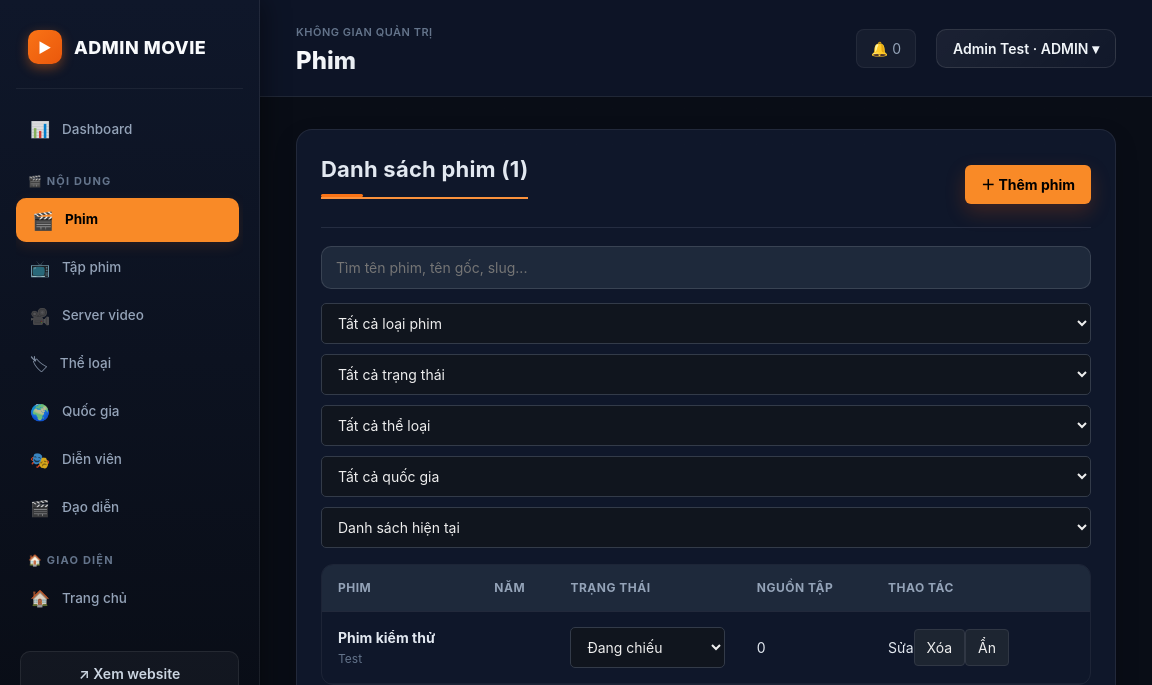
Scenario: Movies filter and navigate to a direct edit URL with episode controls
Expected: the heading "Danh sách phim (1)" is shown, x1=321 y1=154 x2=528 y2=199
Select "Phim lẻ" in the dropdown named "Loại phim" at (706, 324), box x1=321 y1=303 x2=1091 y2=344
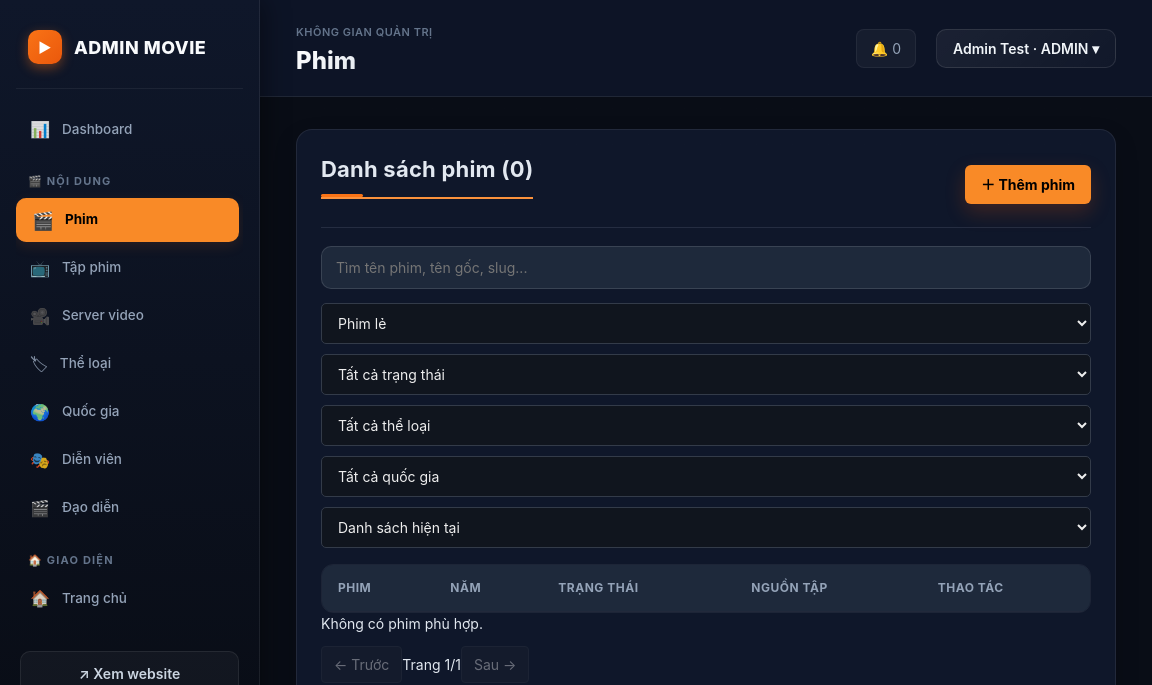
Expected: the text "Không có phim phù hợp." is shown, x1=321 y1=615 x2=483 y2=632
Select "Phim bộ" in the dropdown named "Loại phim" at (706, 324), box x1=321 y1=303 x2=1091 y2=344
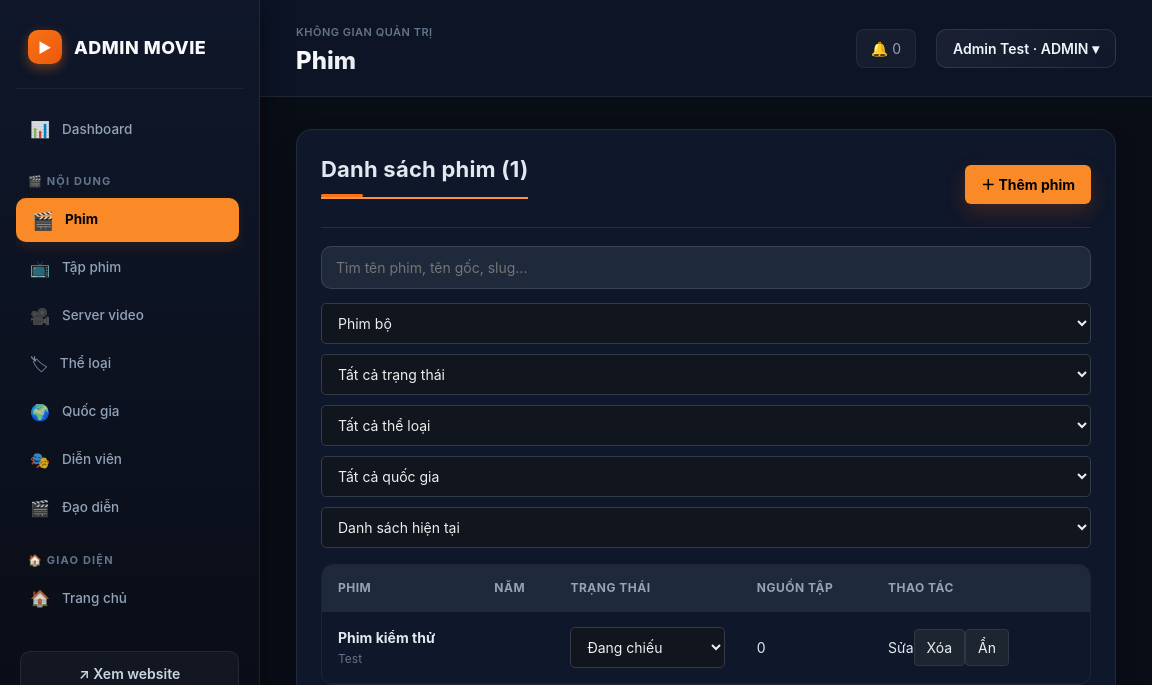
Click the link "Sửa" at (901, 648), box x1=888 y1=639 x2=914 y2=656
(page scrolled)
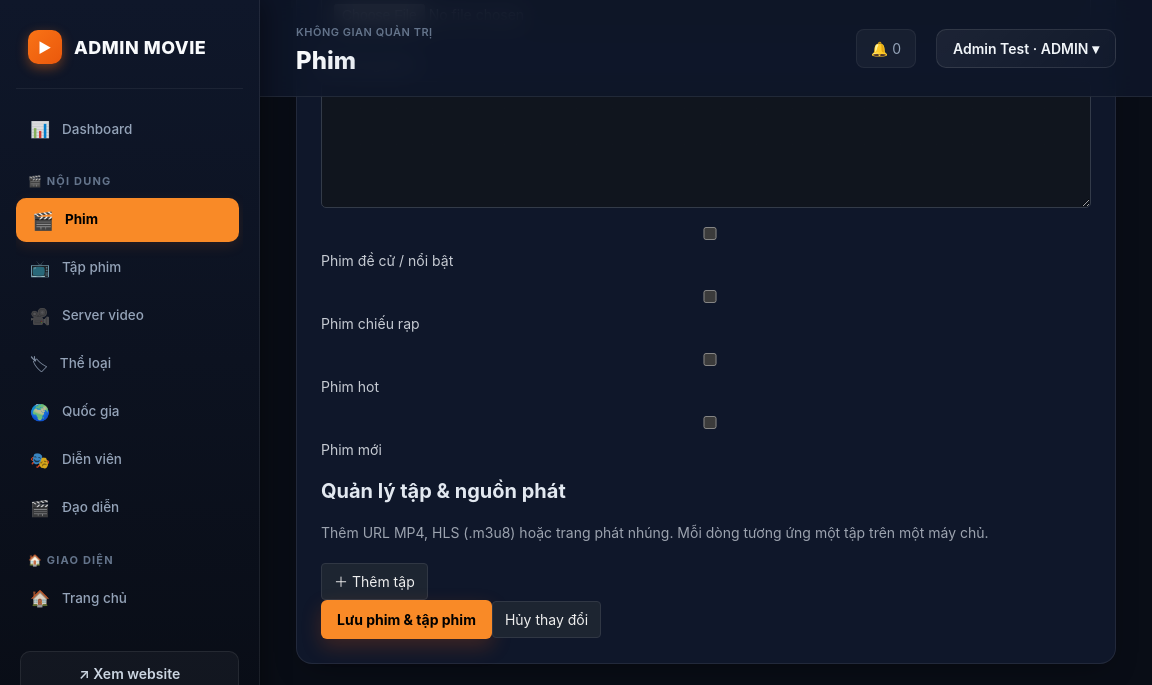
Click the button "＋ Thêm tập" at (374, 582), box x1=321 y1=563 x2=428 y2=600
(page scrolled)
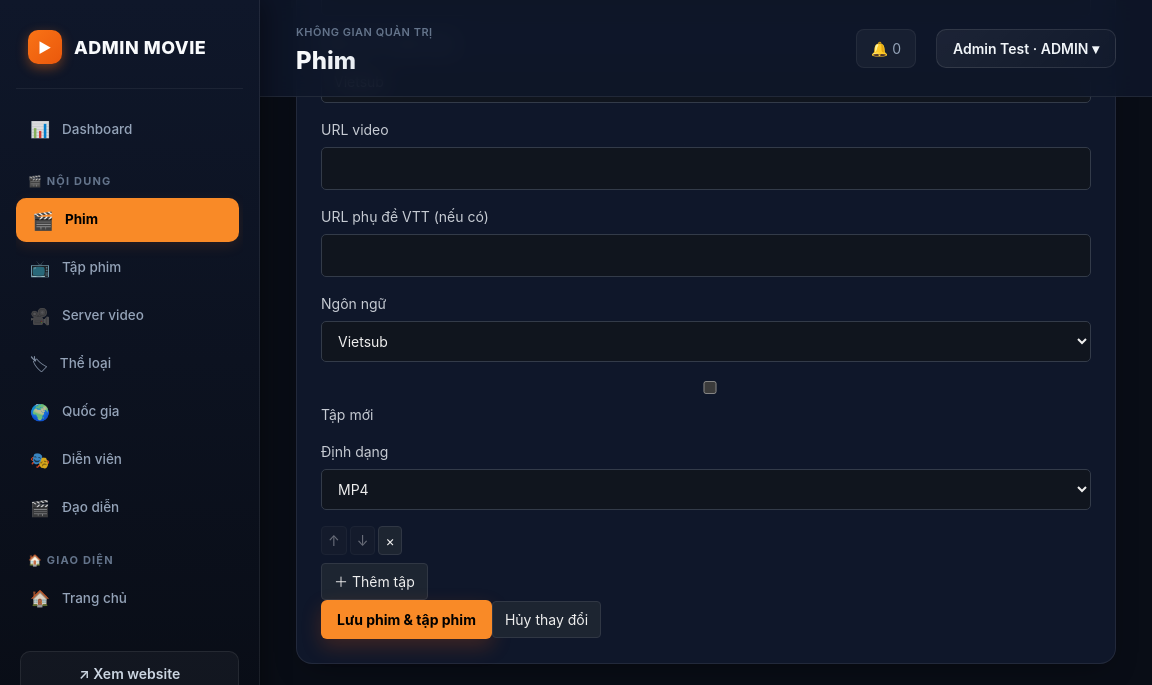
Expected: the checkbox labelled "Tập mới" is shown, x1=325 y1=381 x2=1095 y2=394
Expected: the number of fields labelled "Ngôn ngữ" is 2
